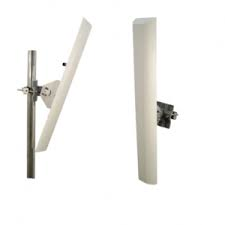sa: (112, 10, 189, 209), (27, 9, 98, 169)
